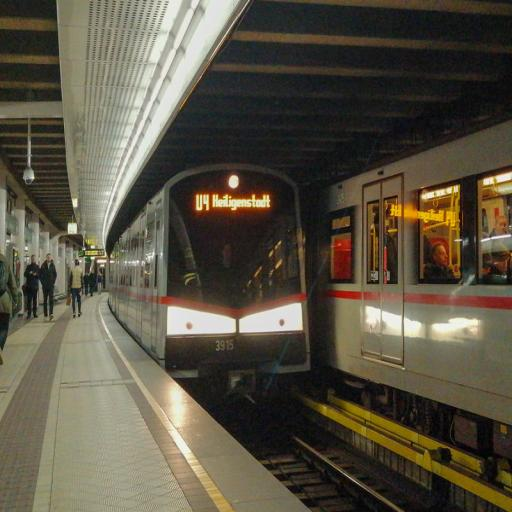V-Wagen: (108, 163, 313, 381)
